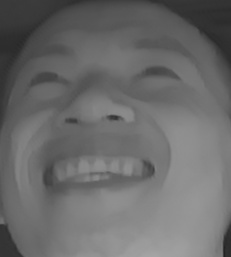eye: (130, 58, 183, 88), (23, 70, 73, 97)
mouth: (35, 133, 162, 205)
